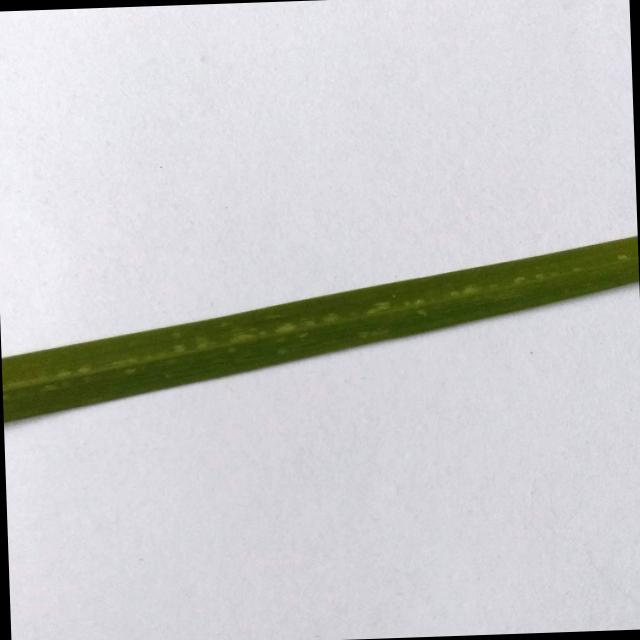Rice_Healthy: (1, 236, 639, 422)
